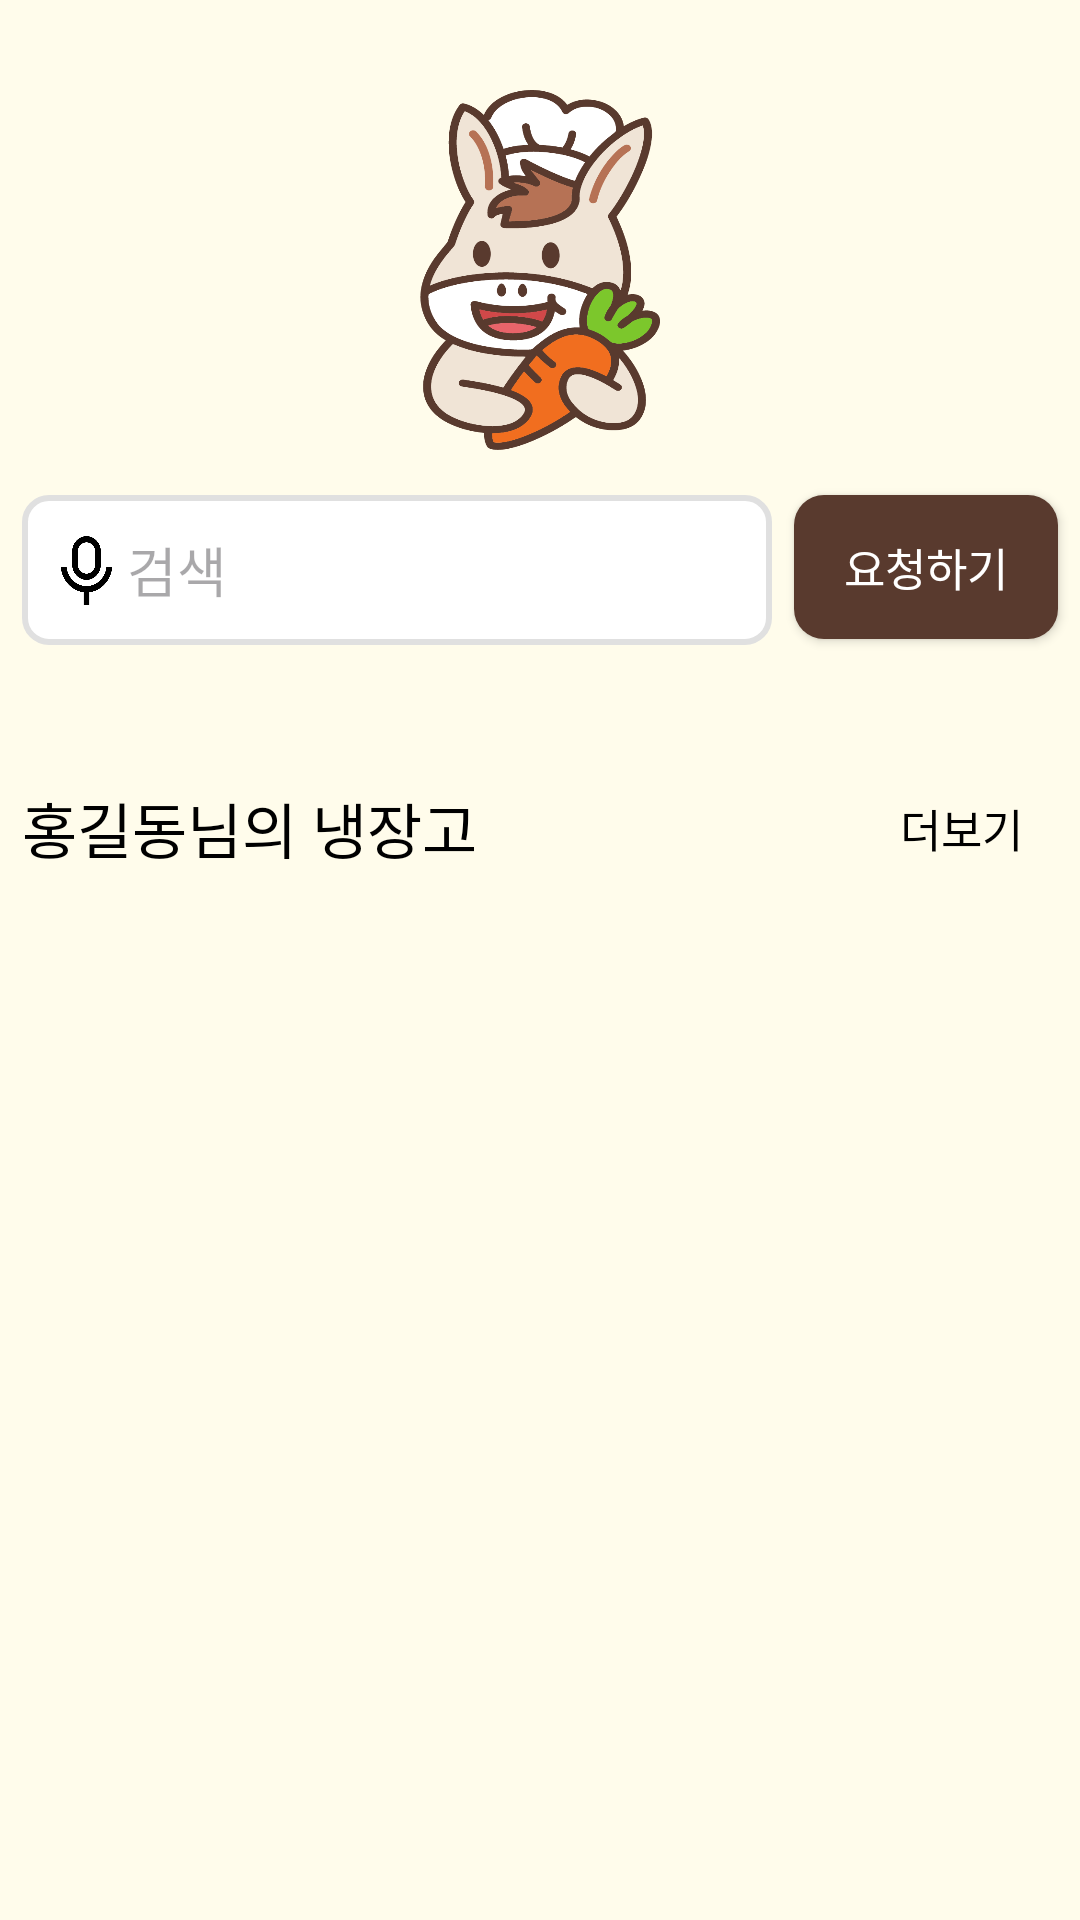

Screen size 1080px x 1920px. Icon name, then its box in pixels as (x1, y1, x2, y2):
donkki half smile: (420, 90, 660, 450)
search mic: (61, 536, 112, 605)
